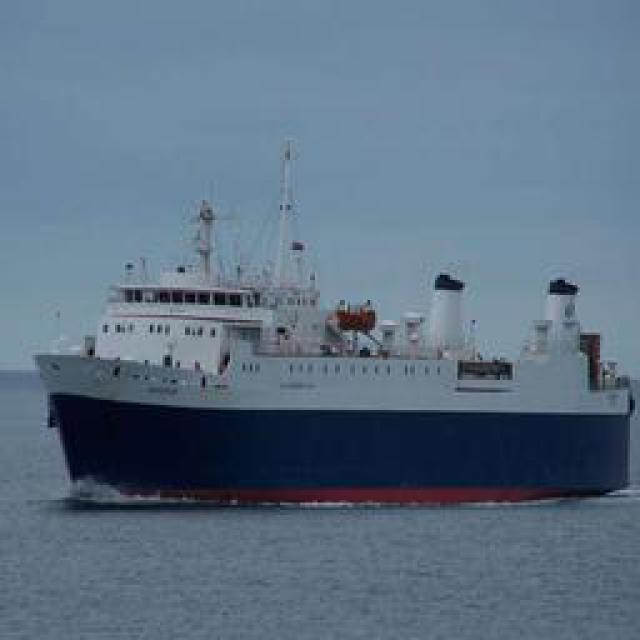Ship: (38, 116, 640, 504)
